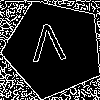V: (29, 23, 68, 71)
